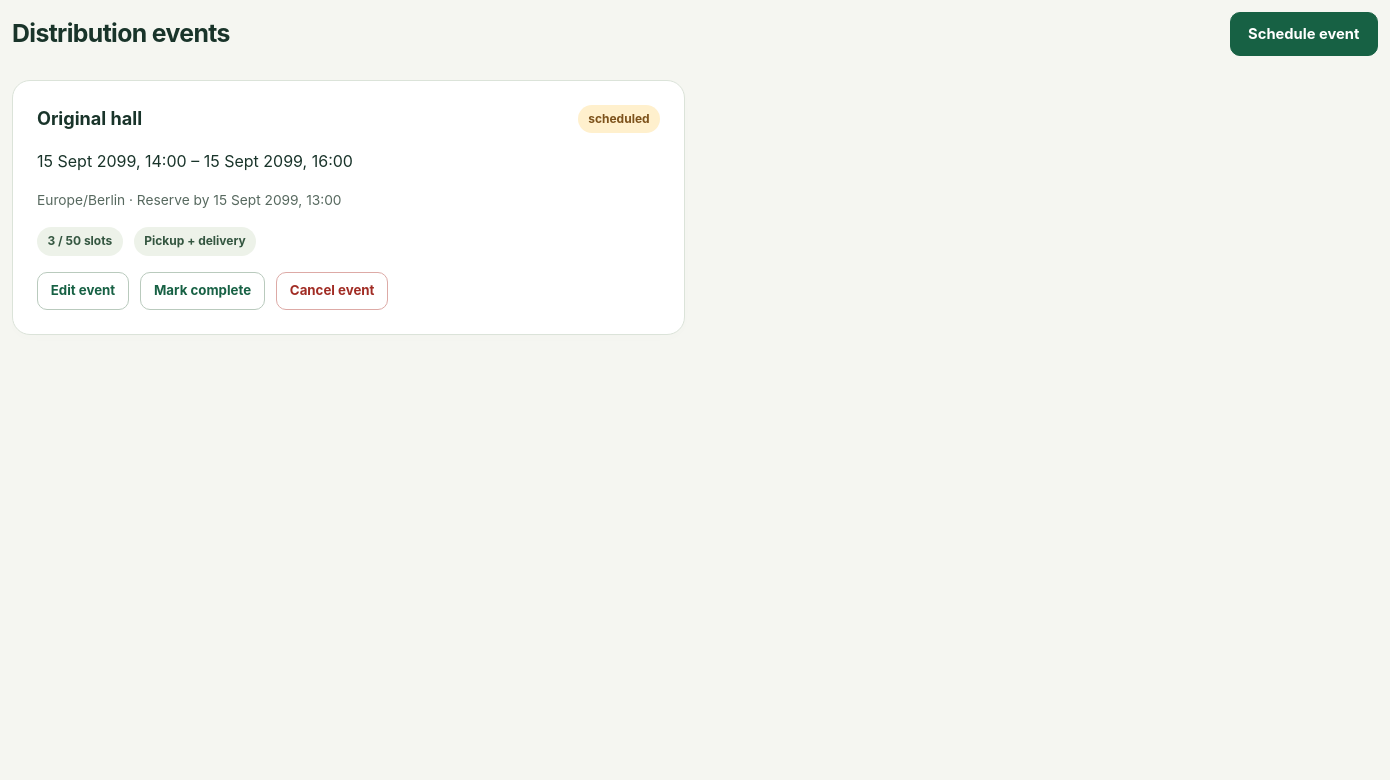
it: editing an event with reservations › changes the location without resubmitting protected schedule fields or changing existing reservations
The width and height of the screenshot is (1390, 780).
Click the button "Edit event" at x=83, y=290, box [37,272,129,310]
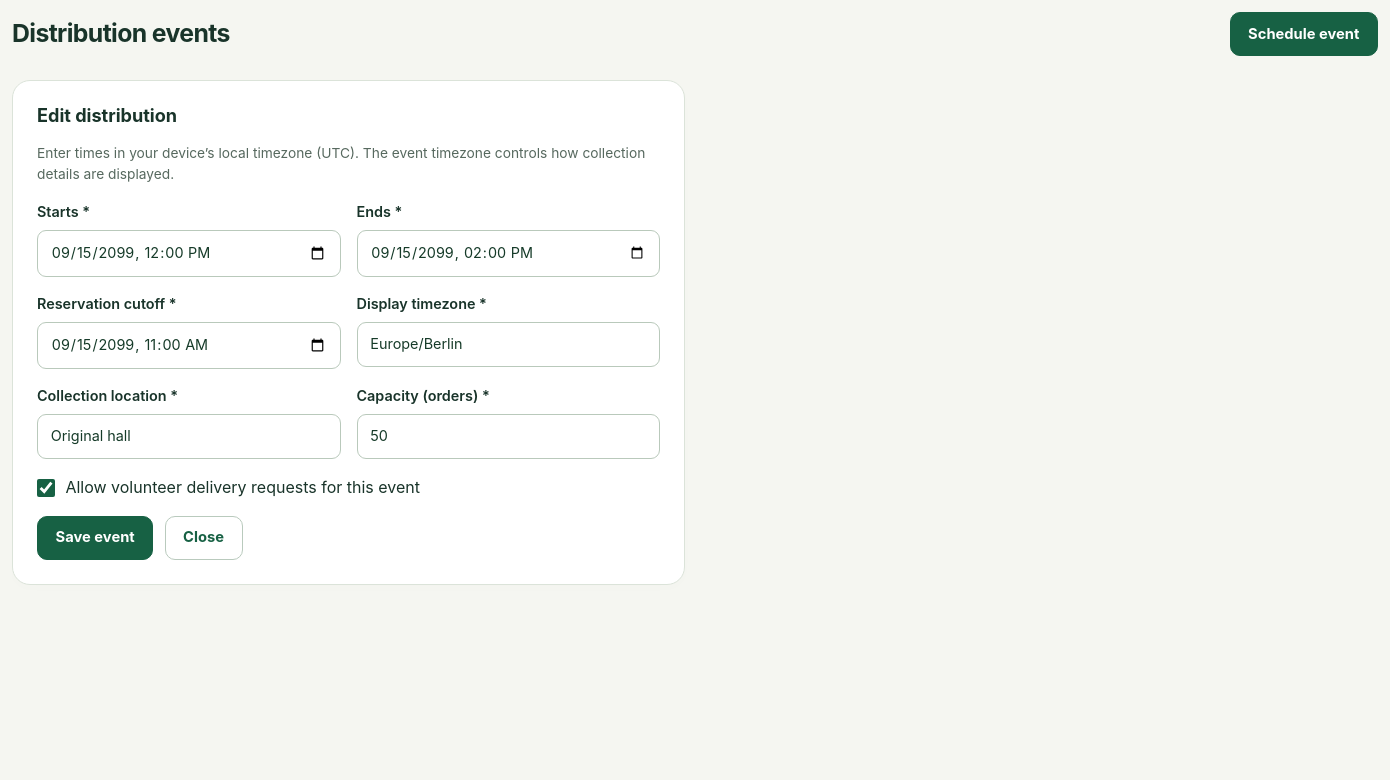
Replace the text in the field labelled "Collection location" with "Accessible community hall" at x=189, y=436, box [37,414,340,459]
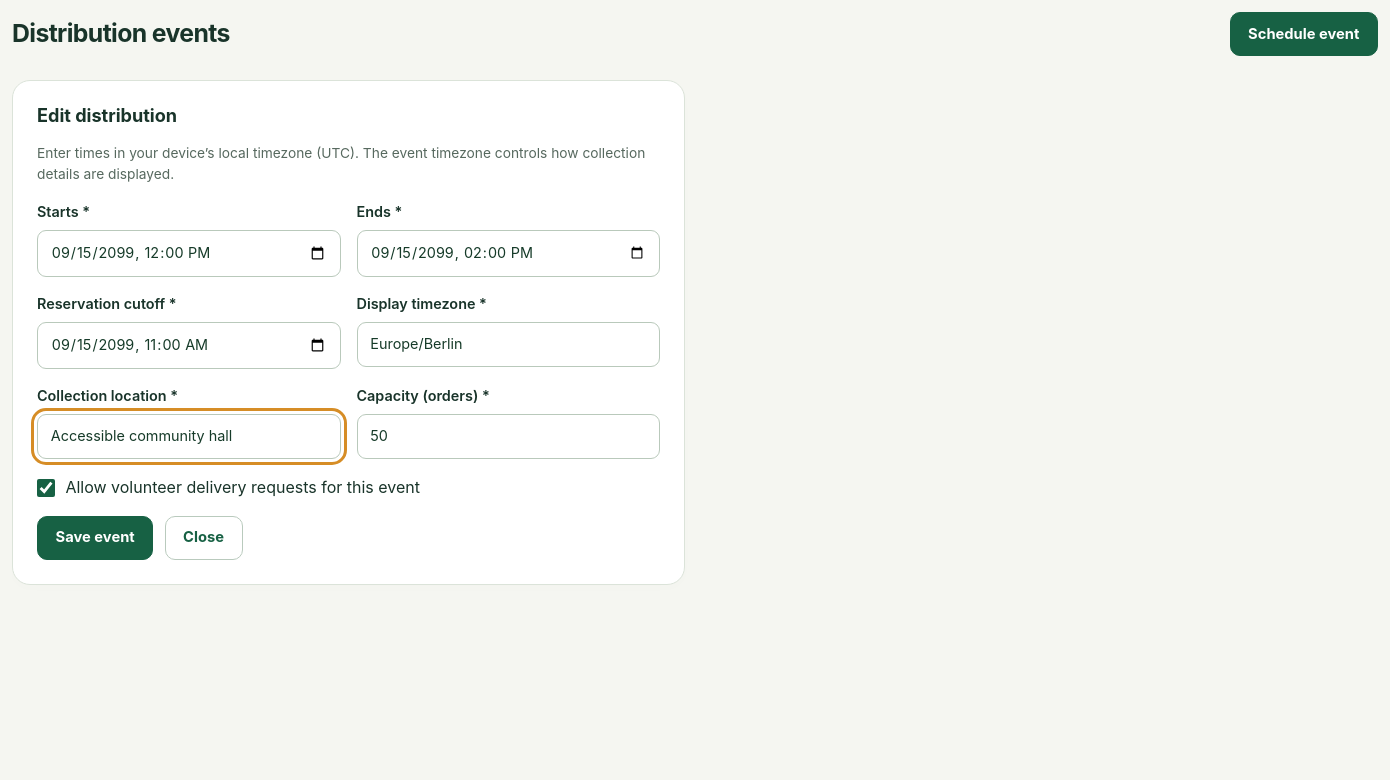
Click the button "Save event" at x=95, y=538, box [37,516,153,560]
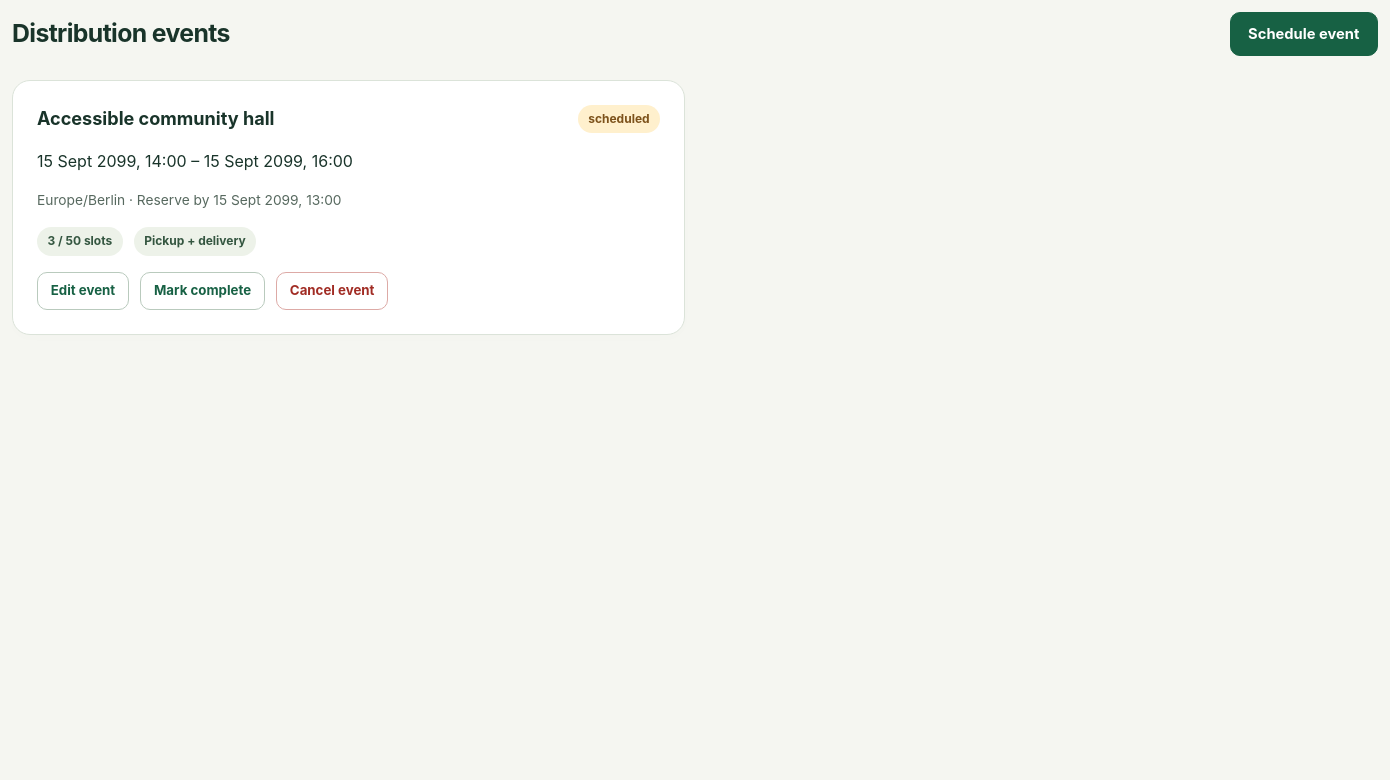
Expected: the heading "Accessible community hall" is shown, [37,108,274,130]
Expected: the text "3 / 50 slots" is shown, [37,227,123,256]
